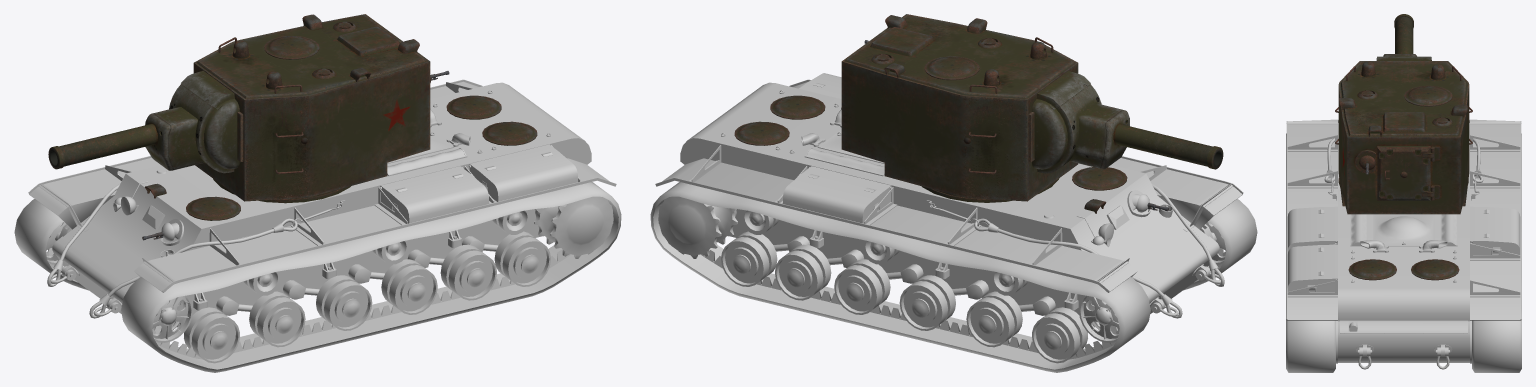
The picture shows the model from 3 angles, left to right: view 1: azimuth 30°, elevation 25°; view 2: azimuth 150°, elevation 25°; view 3: azimuth 270°, elevation 25°; orthographic projection. The views are drawn at different scales.
Parts seen in each view (by area): view 1: KV-2_body, KV-2_turret, KV-2_track_l, KV-2_gun_01, KV-2_mask, KV-2_body_box01, KV-2_body_box02, KV-2_wheel_l_back, KV-2_wheel_l_04, KV-2_wheel_l_02, KV-2_wheel_l_03, KV-2_wheel_l_01 (+10 smaller); view 2: KV-2_body, KV-2_turret, KV-2_track_r, KV-2_gun_01, KV-2_mask, KV-2_body_box03, KV-2_wheel_r_back, KV-2_wheel_r_04, KV-2_wheel_r_02, KV-2_wheel_r_03, KV-2_wheel_r_01, KV-2_wheel_r_05 (+10 smaller); view 3: KV-2_body, KV-2_turret, KV-2_track_l, KV-2_track_r, KV-2_body_box03, KV-2_body_box02, KV-2_body_box01, KV-2_gun_01, hatch_02, hatch_03, KV-2_mask.
Part boxes in pixels (box(x1,y1,x2,y2)): KV-2_body: box(28, 79, 616, 329); KV-2_turret: box(193, 14, 449, 203); KV-2_track_l: box(121, 182, 621, 372); KV-2_gun_01: box(48, 107, 204, 170); KV-2_mask: box(169, 70, 239, 173); KV-2_body_box01: box(379, 166, 489, 223); KV-2_body_box02: box(468, 144, 578, 201); KV-2_wheel_l_back: box(534, 196, 613, 258); KV-2_wheel_l_04: box(440, 244, 496, 300); KV-2_wheel_l_02: box(316, 275, 372, 330); KV-2_wheel_l_03: box(381, 259, 437, 314); KV-2_wheel_l_01: box(249, 291, 305, 347); KV-2_body: box(655, 79, 1243, 329); KV-2_turret: box(841, 14, 1078, 202); KV-2_track_r: box(650, 182, 1150, 372); KV-2_gun_01: box(1069, 103, 1223, 169); KV-2_mask: box(1032, 71, 1101, 173); KV-2_body_box03: box(782, 166, 892, 223); KV-2_wheel_r_back: box(658, 196, 737, 258); KV-2_wheel_r_04: box(775, 244, 831, 300); KV-2_wheel_r_02: box(899, 275, 955, 330); KV-2_wheel_r_03: box(834, 259, 890, 314); KV-2_wheel_r_01: box(966, 291, 1022, 347); KV-2_wheel_r_05: box(721, 231, 777, 286); KV-2_body: box(1286, 119, 1521, 369); KV-2_turret: box(1335, 61, 1472, 214); KV-2_track_l: box(1286, 133, 1335, 372); KV-2_track_r: box(1472, 133, 1521, 372); KV-2_body_box03: box(1470, 206, 1520, 255); KV-2_body_box02: box(1287, 244, 1337, 291); KV-2_body_box01: box(1287, 206, 1337, 253); KV-2_gun_01: box(1383, 14, 1416, 56); hatch_02: box(1348, 259, 1396, 280); hatch_03: box(1411, 259, 1459, 280); KV-2_mask: box(1376, 56, 1431, 60).
Size of the model in its own units: 7039 by 3222 by 3267.
